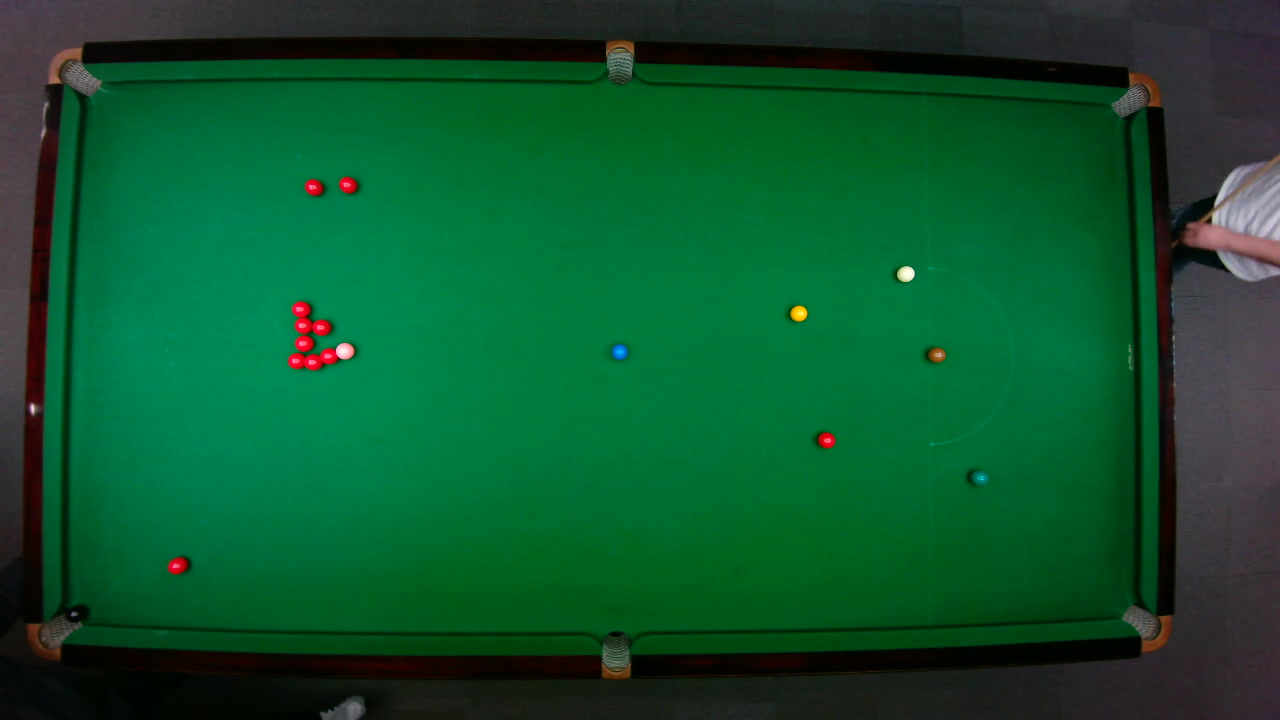bag: (25, 608, 82, 660), (45, 46, 101, 96), (1119, 603, 1171, 652), (1108, 71, 1161, 118), (600, 629, 630, 680), (605, 38, 633, 85)
black: (64, 605, 84, 622)
blue: (610, 342, 628, 360)
brown: (926, 346, 946, 362)
green: (969, 468, 989, 485)
pink: (334, 341, 355, 360)
red: (165, 555, 189, 575), (302, 352, 324, 371), (302, 177, 324, 196), (815, 430, 835, 449), (337, 175, 358, 193), (310, 317, 331, 335), (290, 299, 311, 317), (318, 346, 337, 365), (293, 334, 313, 352), (286, 351, 305, 369), (292, 317, 312, 334)
white: (895, 264, 915, 282)
yellow: (788, 304, 808, 322)
zone: (927, 266, 1013, 445)
